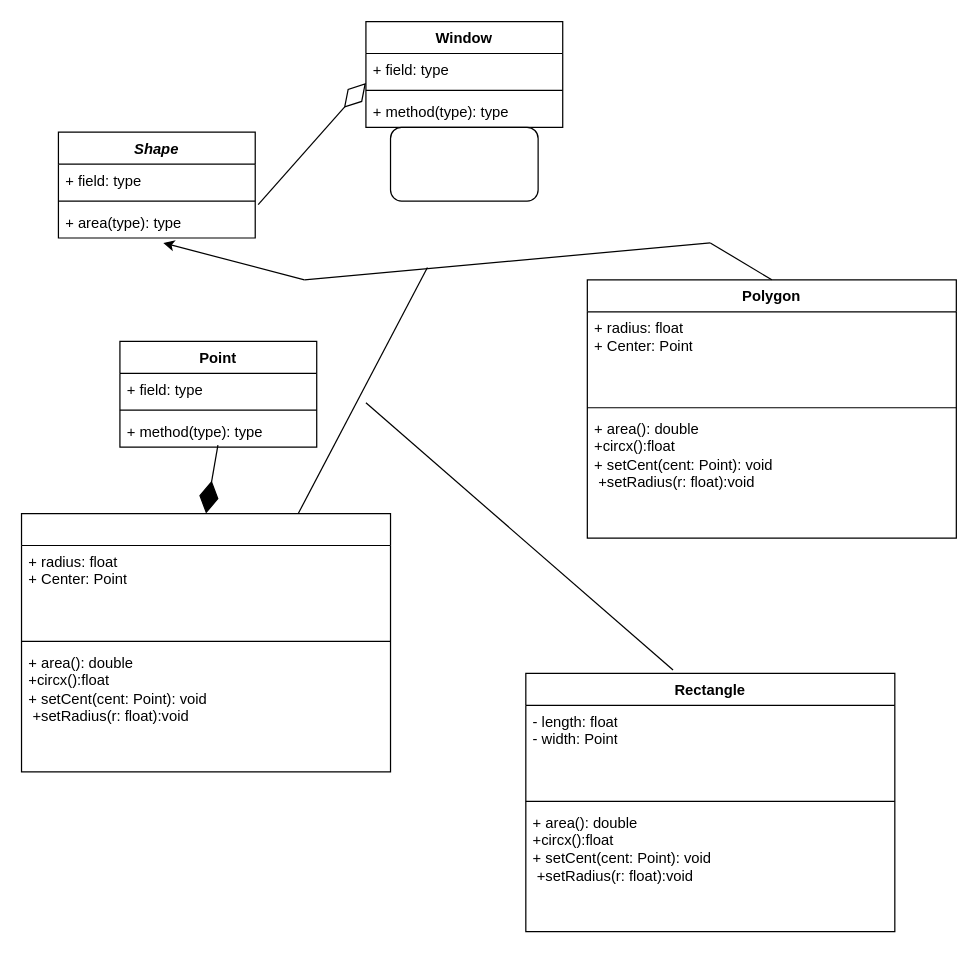
This 978x957 diagram has some shape labels left out. Here are the shapes that lost their labels. From the top down, the box of each, then its label:
(389, 126, 538, 201): Events
(20, 512, 391, 772): Circle
